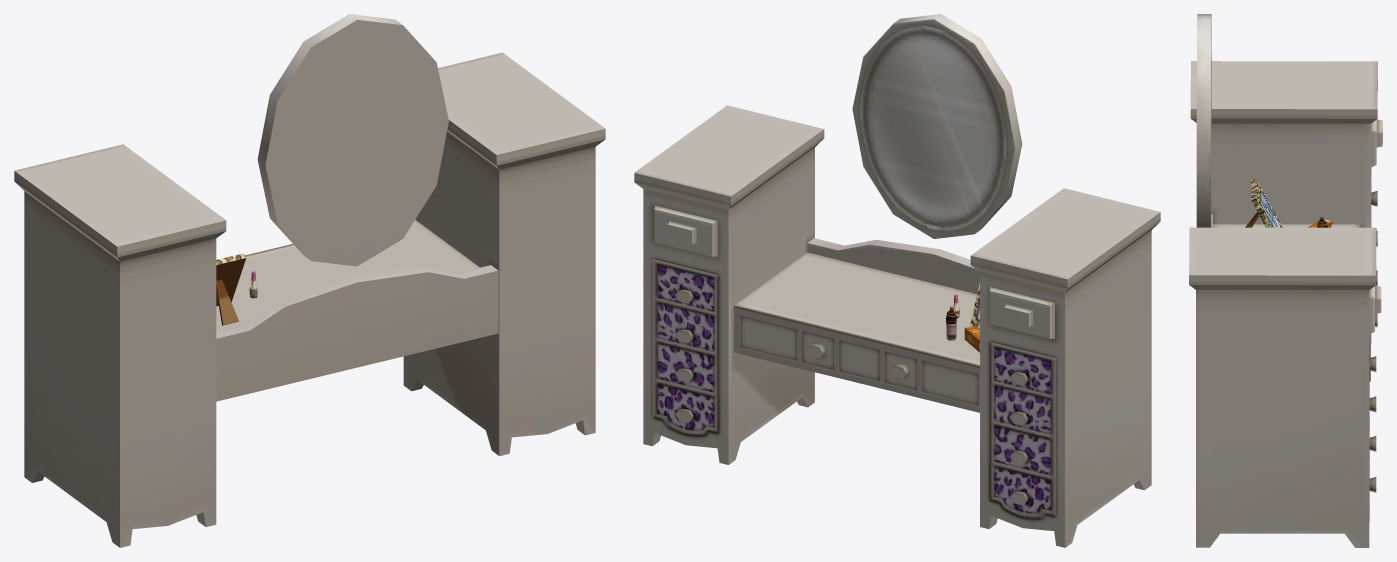
File: furni_0200094_03.FBX
3 renders of one model, left to right at view 1: azimuth 30°, elevation 25°; view 2: azimuth 150°, elevation 25°; view 3: azimuth 270°, elevation 25°, orthographic. The views are drawn at different scales.
Parts seen in each view (by area): view 1: furni_0200094_03; view 2: furni_0200094_03; view 3: furni_0200094_03.
Boxes of the visible parts, x1,y1,x2,y2 form: furni_0200094_03: [14, 14, 605, 547]; furni_0200094_03: [634, 14, 1160, 547]; furni_0200094_03: [1189, 14, 1382, 547].
Bounding box in the file's own units: 234 × 216 × 89.37.
Materials: 1 (1 with a texture image).
